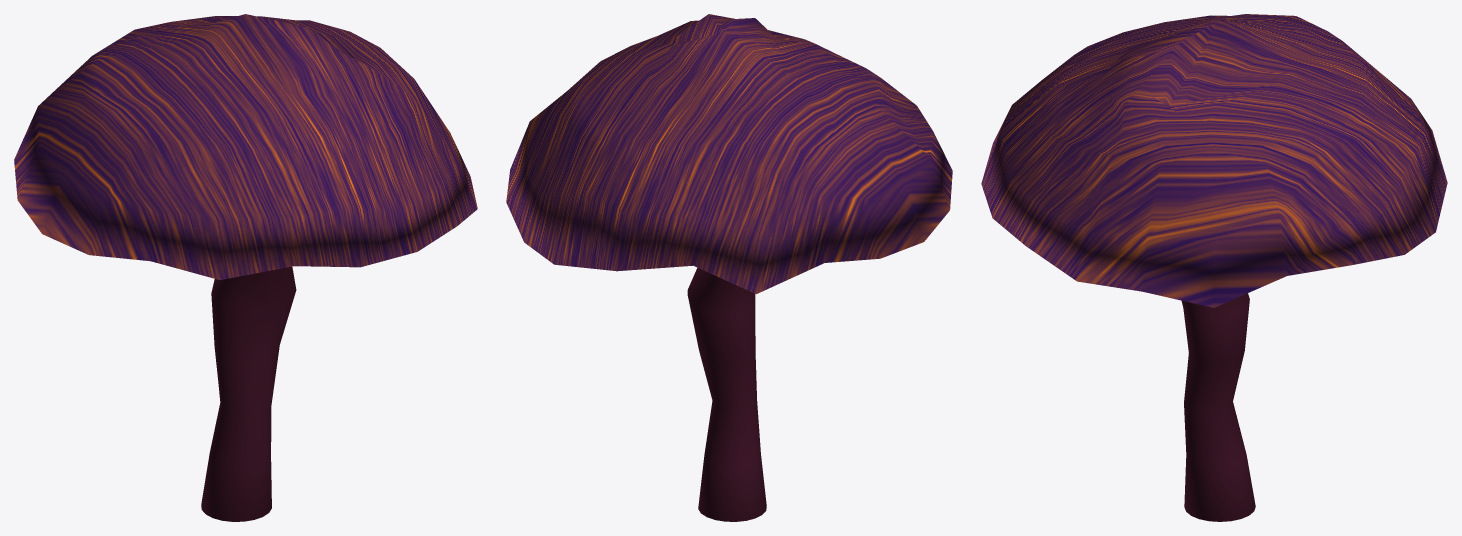
Rendered from mushroom.fbx.
3 renders of one model, left to right at view 1: azimuth 30°, elevation 25°; view 2: azimuth 150°, elevation 25°; view 3: azimuth 270°, elevation 25°, orthographic. The views are drawn at different scales.
Parts seen in each view (by area): view 1: pCylinder1; view 2: pCylinder1; view 3: pCylinder1.
Boxes of the visible parts, x1,y1,x2,y2 form: pCylinder1: (14, 14, 477, 521); pCylinder1: (506, 14, 952, 521); pCylinder1: (981, 14, 1447, 521).
Bounding box in the file's own units: 9.31 × 10.84 × 9.34.
Materials: 2 (1 with a texture image).
